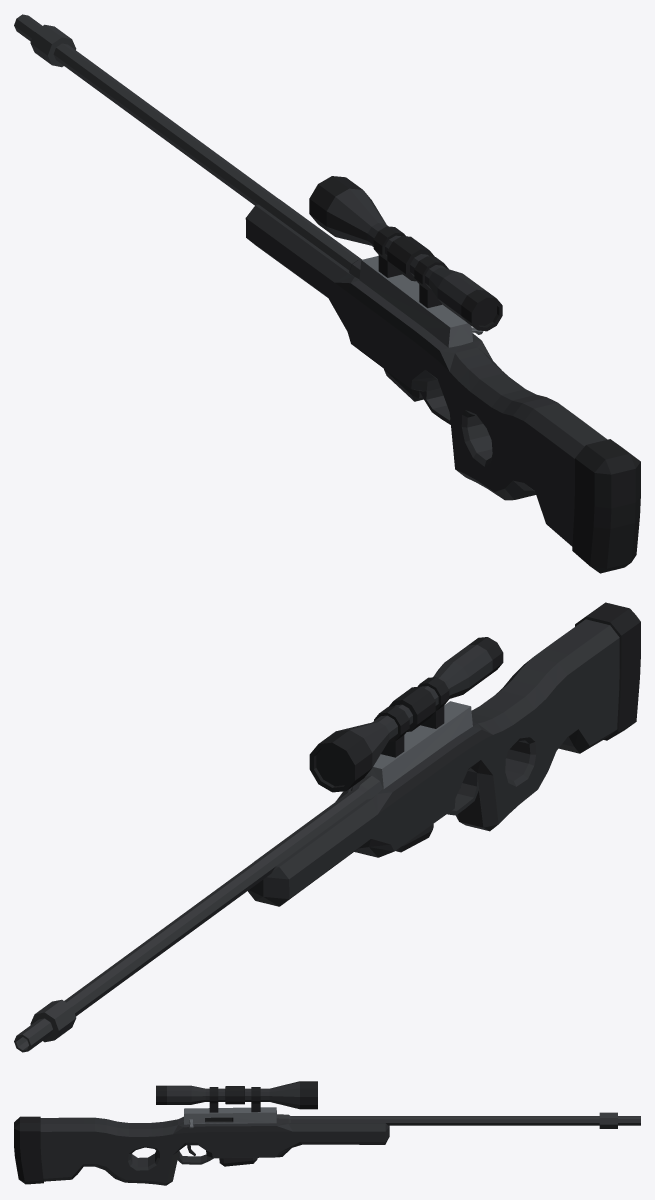
The model's file is SniperRifle.glb.
3 renders of one model, top to bottom at view 1: azimuth 30°, elevation 25°; view 2: azimuth 150°, elevation 25°; view 3: azimuth 270°, elevation 25°, orthographic. The views are drawn at different scales.
Size of the model in its own units: 0.0602 by 0.2118 by 1.2.
Materials: 1 (1 with a texture image).
